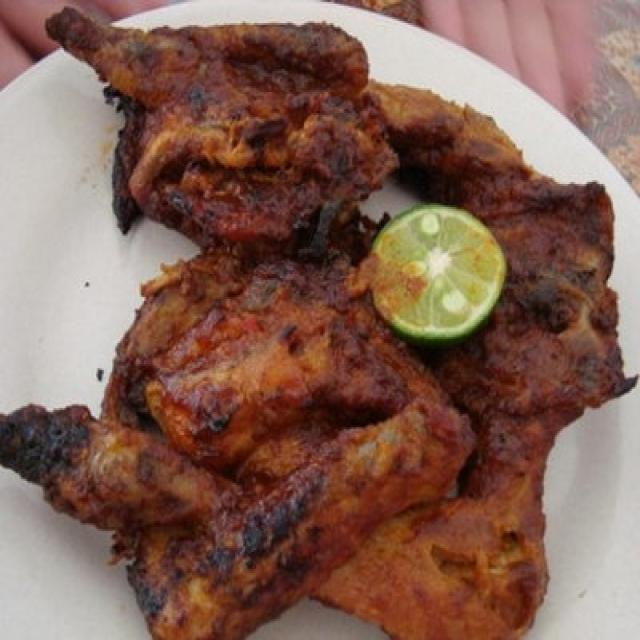鸡肉料理 含炸鸡: (11, 12, 618, 615)
